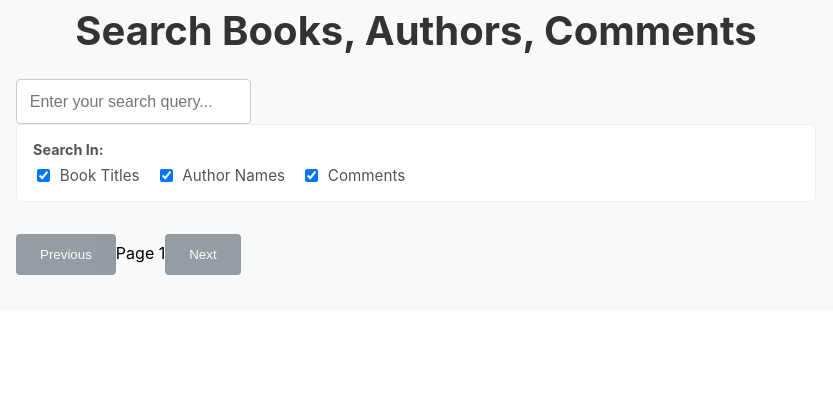
Scenario: displays "No results found" message
The width and height of the screenshot is (833, 404).
Type "empty" into the field with placeholder "Enter your search query..." at (133, 102), box [16,79,251,124]
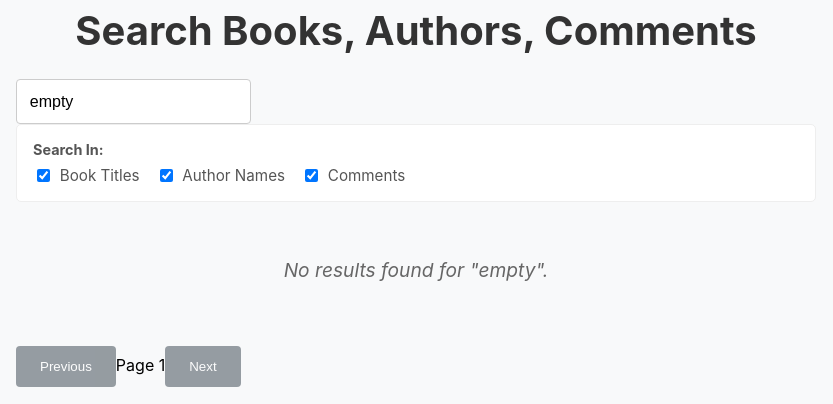
Expected: the text "No results found for \"empty\"." is shown, [284,258,548,282]
